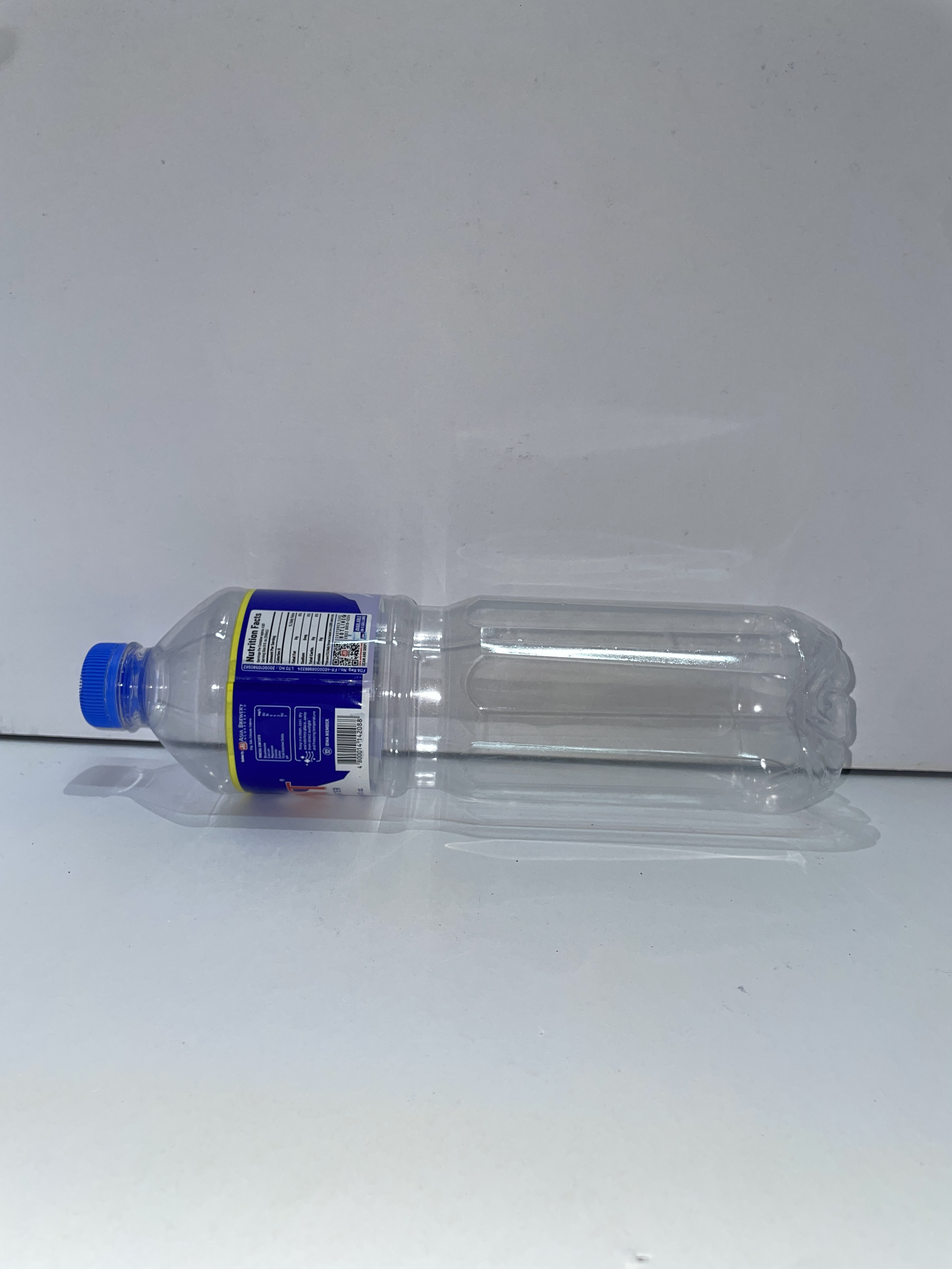Summit 1000ml: (80, 588, 855, 812)
